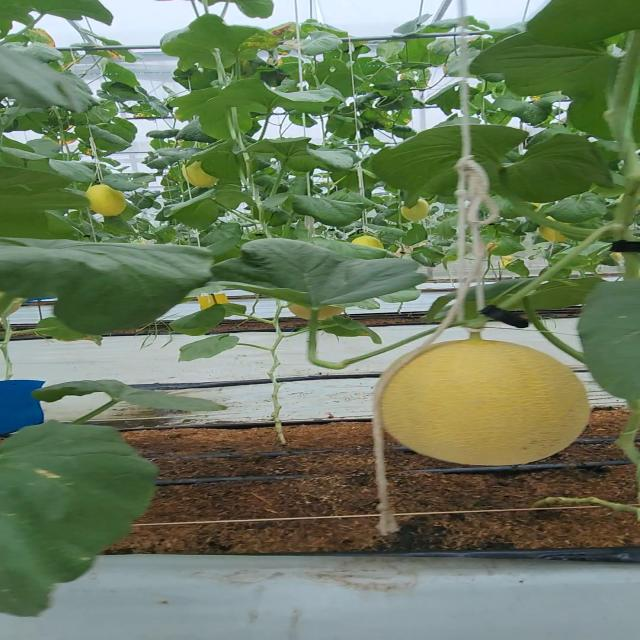Melon: (383, 342, 599, 466)
